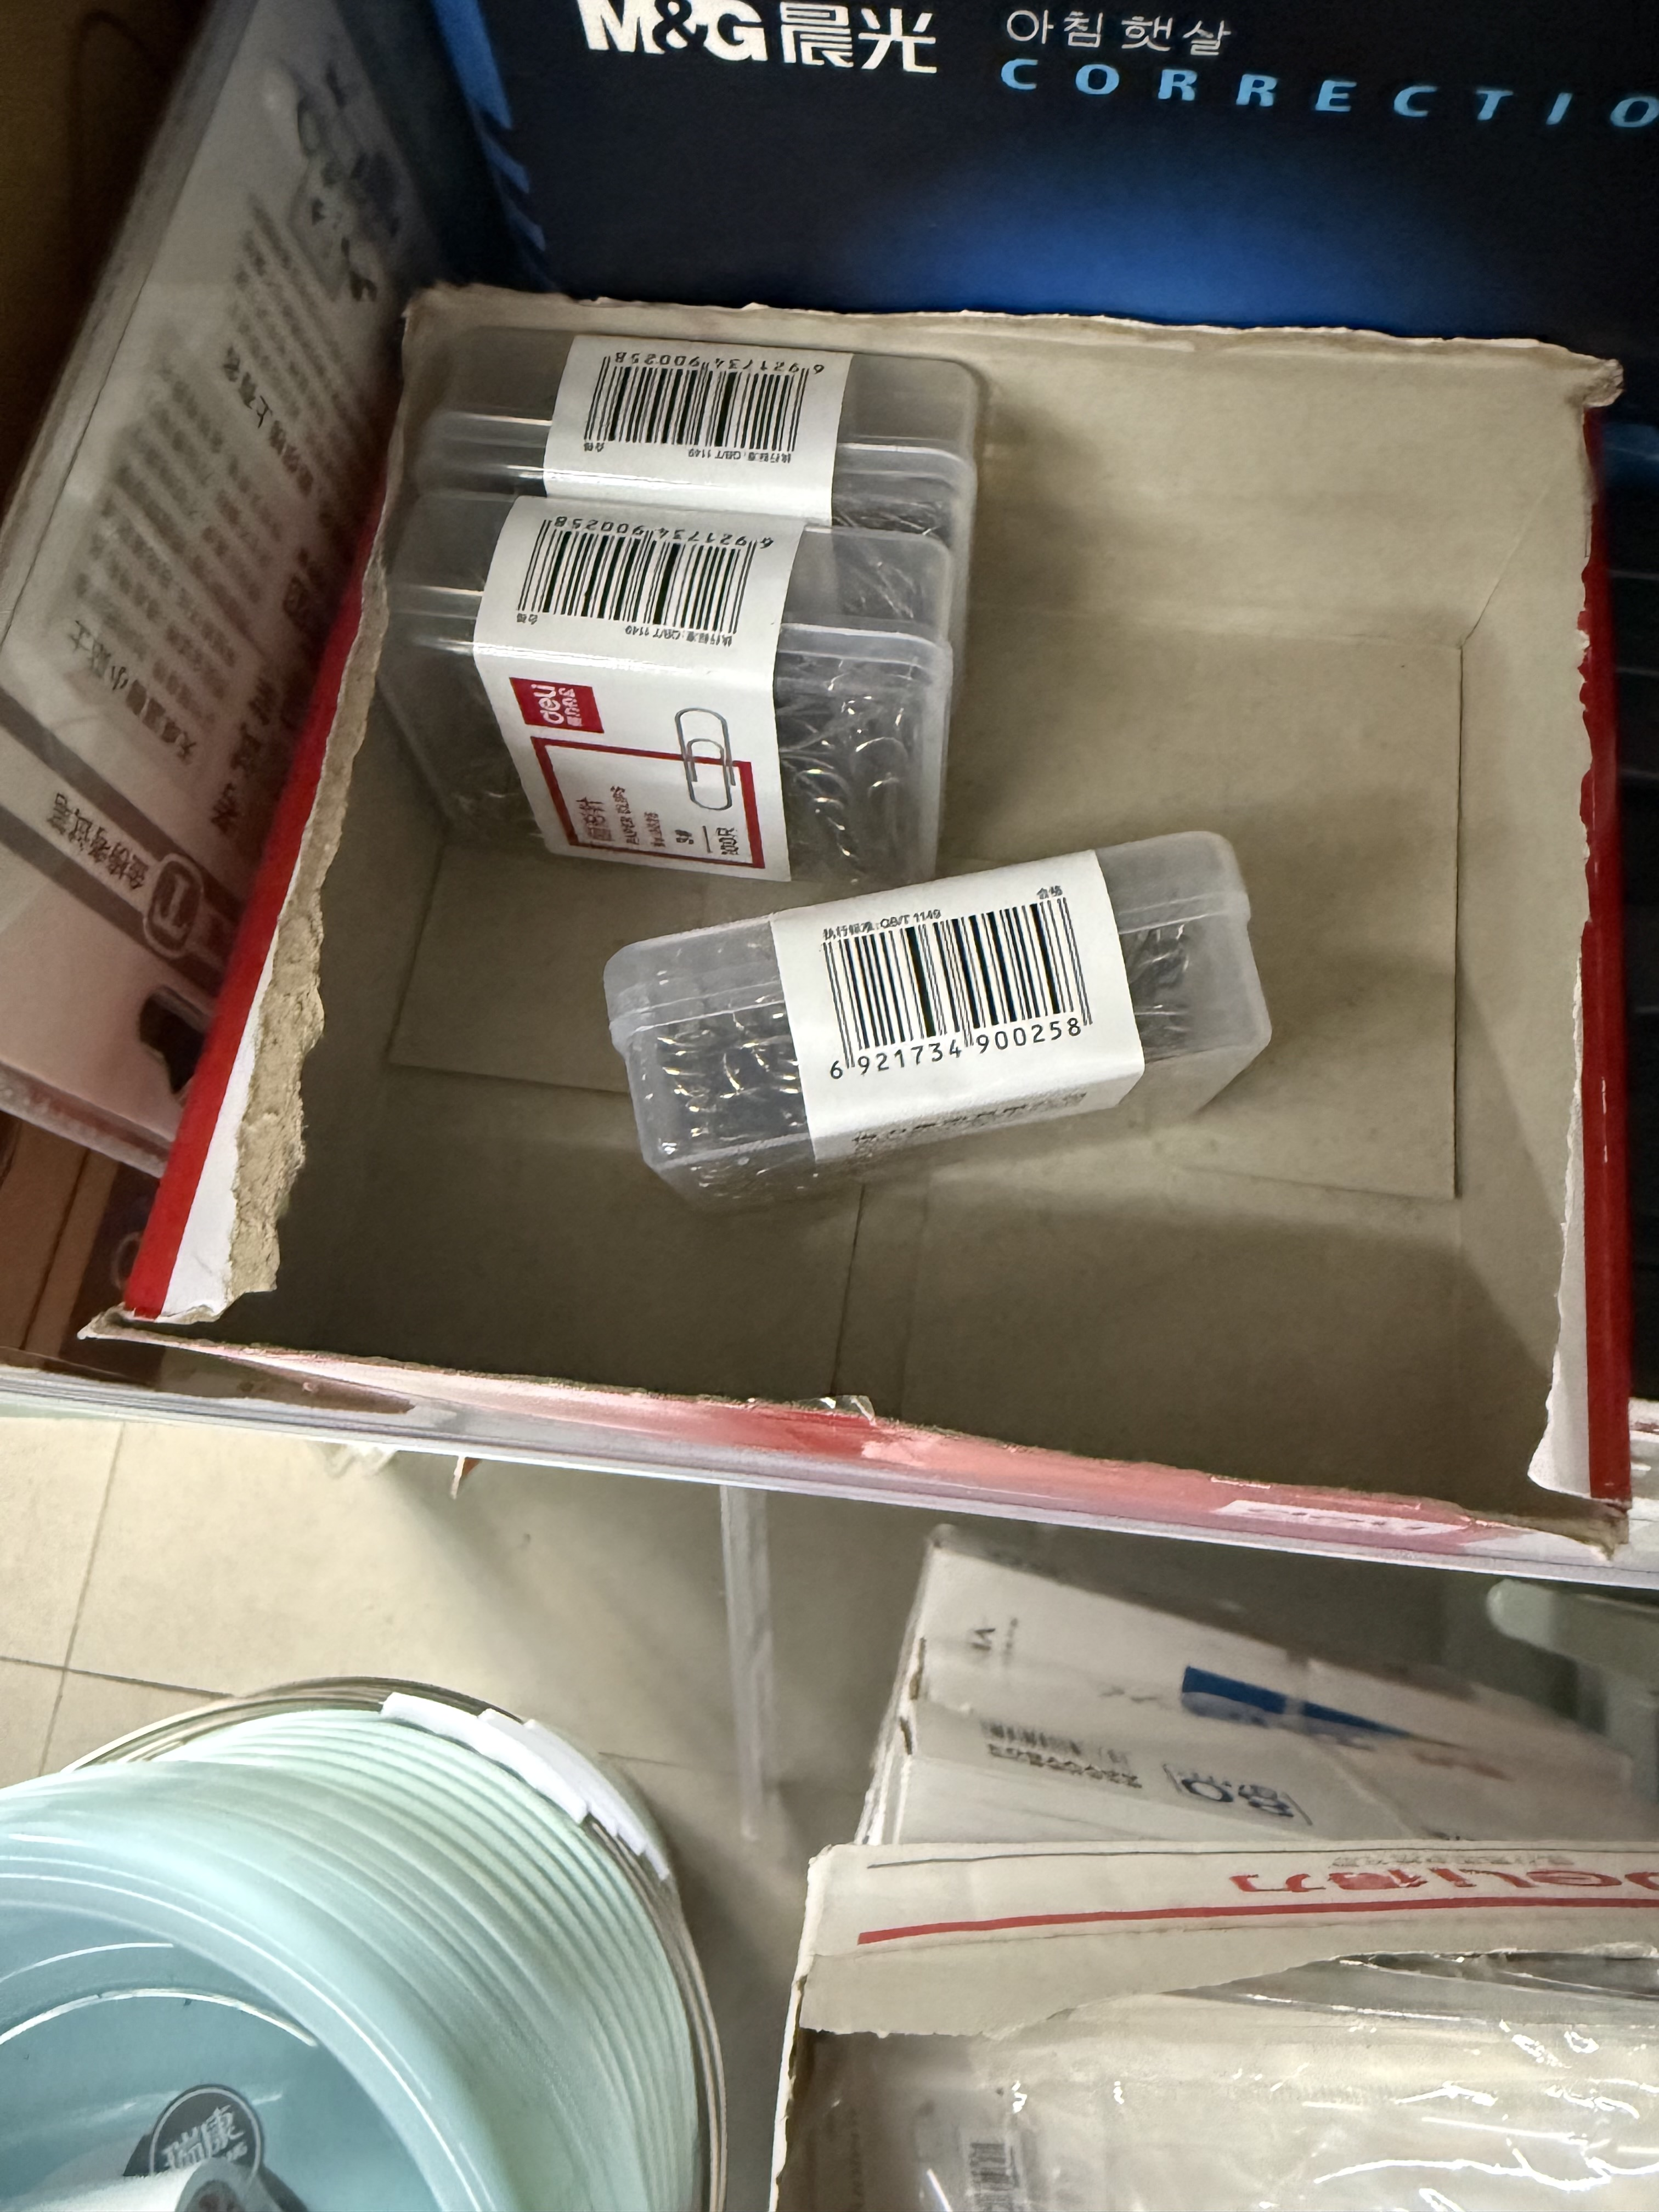bar: (816, 885, 1108, 1071)
